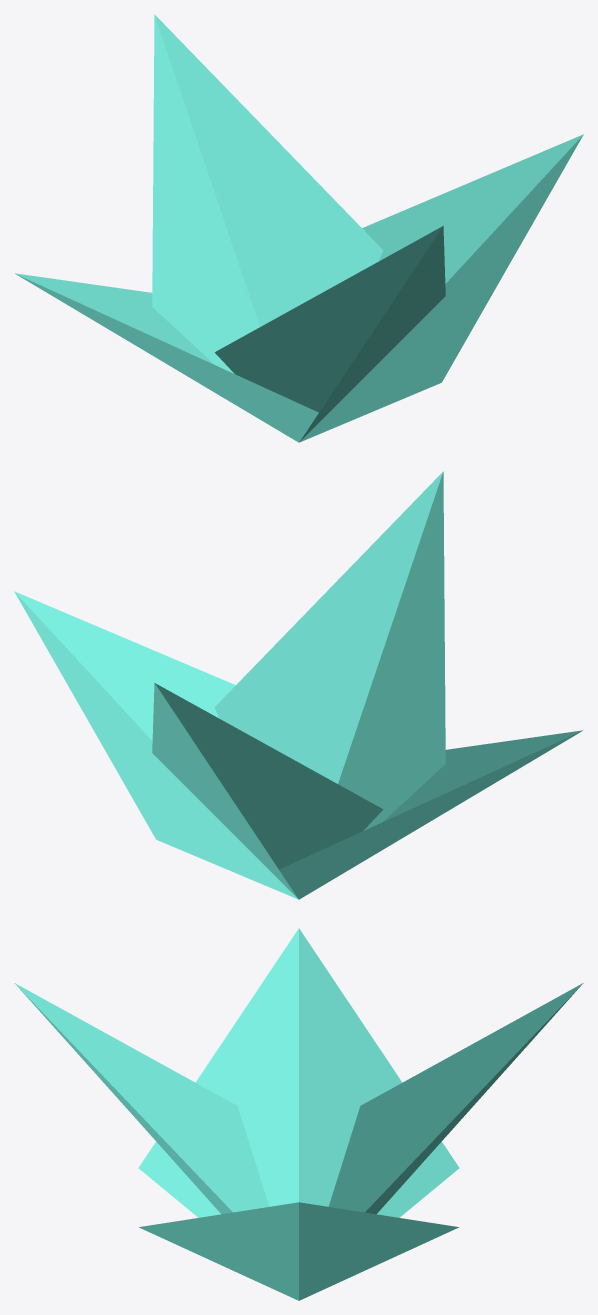
File: plant_bushSmall.gltf
3 renders of one model, top to bottom at view 1: azimuth 30°, elevation 25°; view 2: azimuth 150°, elevation 25°; view 3: azimuth 270°, elevation 25°, orthographic.
Parts seen in each view (by area): view 1: plant_bushSmall; view 2: plant_bushSmall; view 3: plant_bushSmall.
Boxes of the visible parts, left/top/right/bottom form: plant_bushSmall: left=15, top=14, right=583, bottom=442; plant_bushSmall: left=14, top=471, right=582, bottom=899; plant_bushSmall: left=14, top=928, right=583, bottom=1300.
Size of the model in its own units: 0.383 by 0.2073 by 0.3363.
